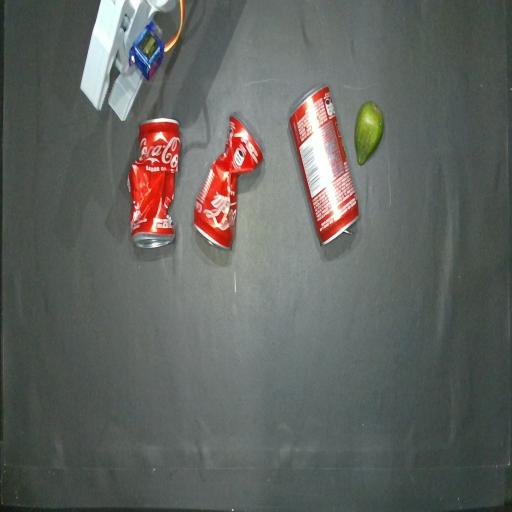higo: (355, 101, 383, 165)
lata: (289, 84, 359, 244)
lata_defectuoso: (194, 116, 263, 249), (127, 118, 181, 248)
